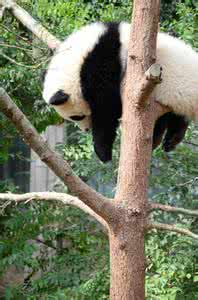panda: (41, 23, 198, 160)
